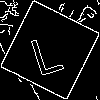L: (25, 25, 65, 77)
